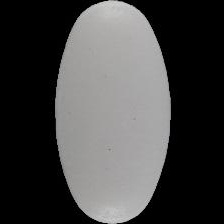68645-497: (0, 0, 224, 224)
